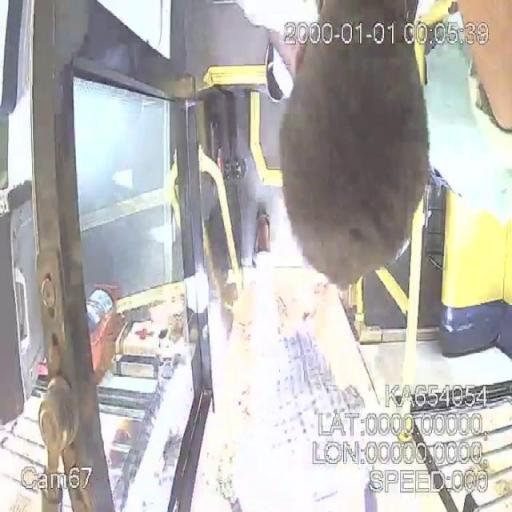persona: (278, 0, 432, 291)
